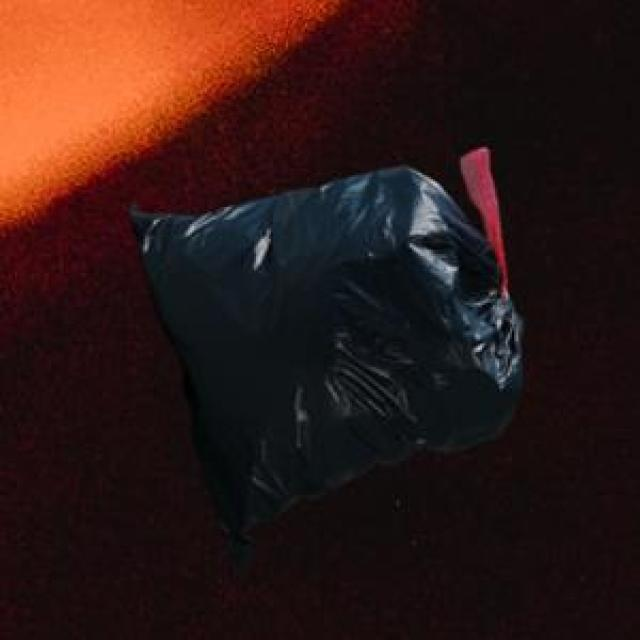miscellaneous trash: (128, 145, 518, 568)
